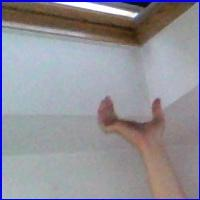space: (91, 92, 175, 150)
